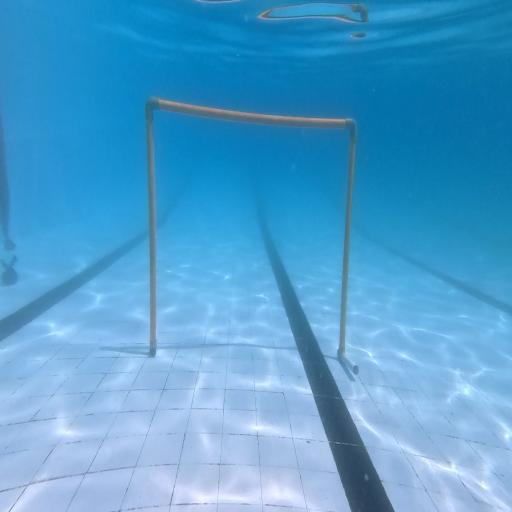gate: (145, 97, 359, 376)
